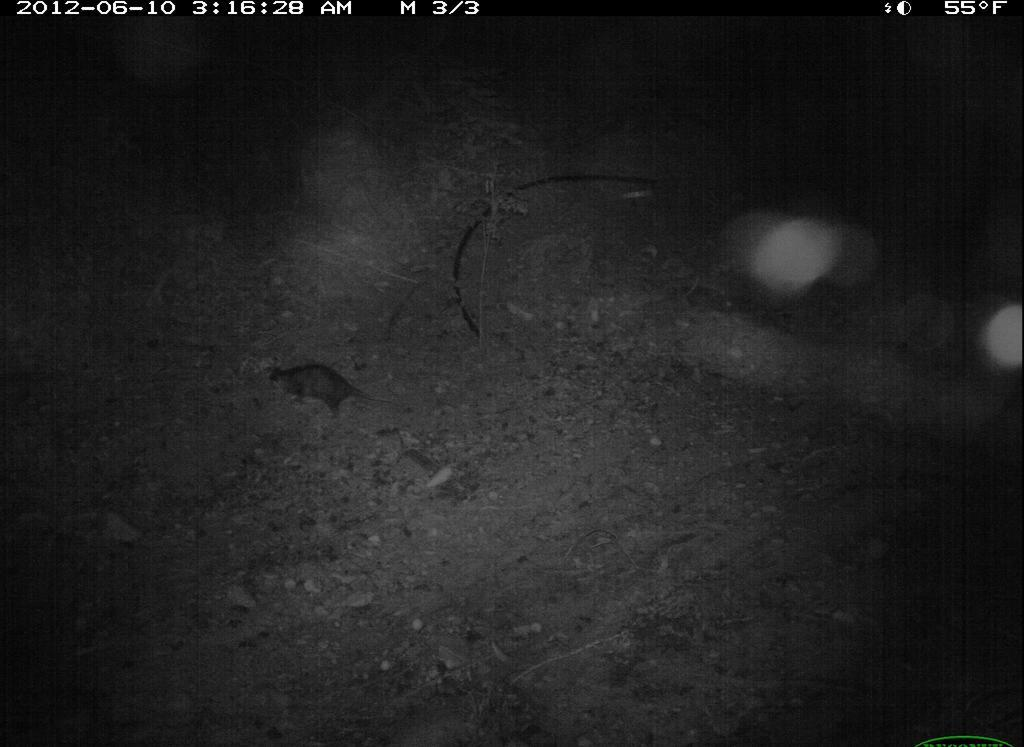opossum: (257, 353, 417, 429)
